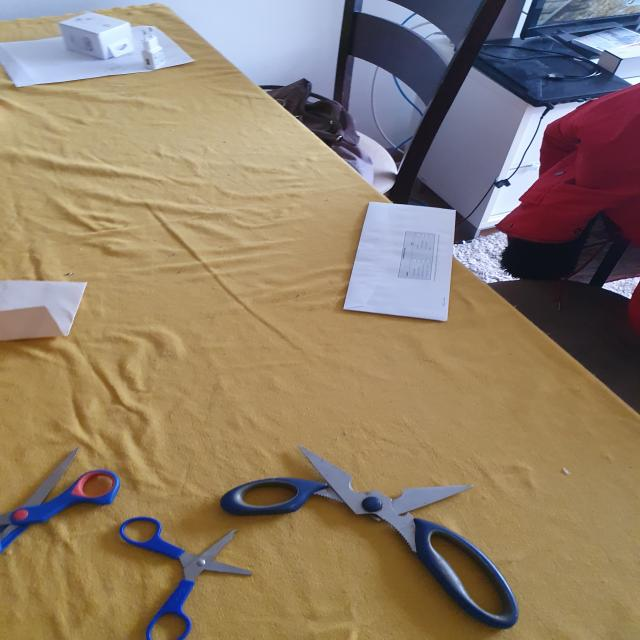scissors: (218, 442, 526, 632), (117, 516, 250, 640), (0, 444, 127, 553)
